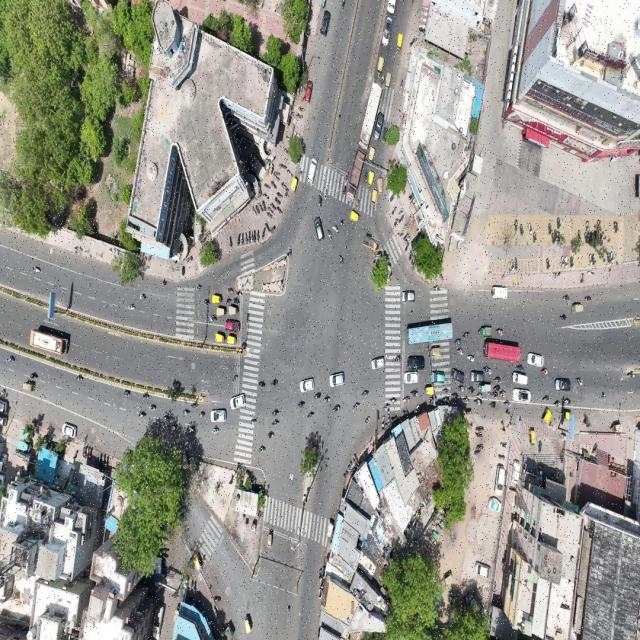3W: (240, 610, 257, 633), (192, 550, 204, 575), (540, 408, 554, 429), (395, 32, 406, 58), (265, 525, 276, 550), (19, 382, 37, 394), (381, 126, 390, 150), (212, 330, 225, 346), (227, 304, 240, 320), (350, 208, 361, 226), (572, 300, 584, 316), (376, 55, 384, 79), (384, 70, 392, 94), (377, 177, 385, 200), (477, 324, 492, 336), (528, 426, 536, 448), (370, 188, 378, 210), (290, 176, 300, 193), (367, 147, 375, 166), (477, 385, 493, 394), (227, 332, 239, 344), (211, 293, 222, 305), (216, 305, 226, 318), (424, 384, 436, 394), (368, 170, 374, 188)
Bus: (27, 325, 72, 358), (403, 319, 454, 344)
Cars: (309, 212, 326, 250), (60, 417, 80, 441), (474, 555, 493, 580), (491, 279, 510, 303), (319, 9, 332, 44), (380, 15, 393, 48), (302, 76, 317, 104), (374, 110, 386, 142), (510, 388, 532, 404), (306, 158, 318, 187), (210, 406, 228, 425), (510, 369, 529, 387), (493, 465, 506, 491), (554, 375, 572, 393), (370, 351, 386, 371), (526, 350, 544, 367), (328, 372, 347, 388), (450, 365, 465, 385), (428, 368, 446, 384), (296, 377, 316, 391), (230, 394, 248, 409), (408, 356, 426, 371), (225, 319, 243, 333), (402, 372, 421, 384), (470, 370, 486, 384), (401, 290, 416, 303)
M2W: (31, 256, 41, 284), (331, 403, 344, 417), (429, 345, 443, 358), (5, 351, 15, 368), (543, 256, 553, 273), (576, 374, 586, 391), (72, 372, 85, 385), (258, 372, 265, 396), (606, 248, 615, 266), (296, 396, 306, 412), (554, 214, 564, 230), (205, 313, 218, 325), (127, 300, 138, 314), (393, 351, 402, 368), (363, 413, 373, 428), (337, 252, 346, 268), (310, 390, 322, 402), (332, 222, 344, 234), (351, 401, 362, 414), (192, 280, 203, 293), (227, 234, 234, 253), (195, 410, 207, 421), (512, 215, 518, 237), (361, 386, 371, 399), (410, 387, 420, 400), (487, 398, 497, 411), (600, 388, 608, 404), (584, 216, 591, 234), (235, 232, 242, 250), (391, 215, 400, 229), (122, 387, 132, 399), (249, 415, 259, 427), (270, 408, 282, 418), (322, 392, 332, 404), (499, 437, 509, 449), (527, 217, 533, 237), (542, 393, 552, 405), (352, 198, 362, 210), (27, 370, 40, 379), (271, 375, 280, 388), (613, 218, 619, 237), (467, 351, 474, 367), (260, 226, 267, 242), (340, 185, 347, 201), (211, 426, 222, 436), (306, 412, 317, 422), (560, 255, 565, 277), (494, 374, 504, 385), (277, 160, 288, 170), (138, 292, 148, 303), (224, 284, 235, 294), (519, 221, 525, 239), (510, 257, 516, 275), (587, 250, 593, 268), (402, 394, 411, 406), (564, 395, 573, 407), (283, 130, 292, 142), (343, 168, 350, 183), (142, 388, 150, 401), (259, 443, 267, 456), (286, 601, 292, 618), (547, 220, 553, 237), (476, 422, 486, 432), (569, 253, 574, 273), (558, 312, 568, 322), (442, 386, 452, 396), (261, 191, 271, 201), (233, 295, 243, 305), (136, 409, 147, 418), (267, 430, 276, 441), (498, 451, 507, 462), (316, 194, 323, 208), (182, 406, 190, 418), (473, 440, 485, 448), (463, 328, 471, 340), (453, 336, 461, 348), (327, 227, 333, 243), (402, 241, 410, 253), (362, 169, 368, 185), (457, 348, 464, 361), (272, 419, 282, 428), (595, 217, 601, 232), (584, 293, 594, 302), (496, 327, 505, 337), (539, 368, 549, 377), (500, 389, 509, 399), (298, 104, 307, 114), (252, 230, 258, 245), (381, 70, 386, 88), (269, 179, 277, 190), (390, 204, 398, 215), (563, 292, 570, 304), (553, 398, 560, 410), (323, 188, 329, 202), (251, 205, 257, 219), (281, 180, 288, 192), (148, 403, 157, 412), (474, 448, 483, 457), (272, 197, 281, 206), (399, 230, 408, 239), (474, 399, 484, 407), (491, 390, 499, 400), (281, 144, 289, 154), (202, 297, 210, 307), (474, 432, 487, 438), (399, 204, 405, 217), (533, 229, 538, 244), (457, 384, 465, 393), (485, 365, 492, 375), (296, 112, 303, 122), (391, 396, 397, 407), (224, 296, 232, 304), (259, 201, 264, 213), (468, 386, 475, 394), (288, 168, 294, 177), (245, 230, 248, 247), (494, 385, 501, 392), (594, 252, 597, 268)
Truck: (352, 78, 385, 150), (346, 148, 367, 208)
